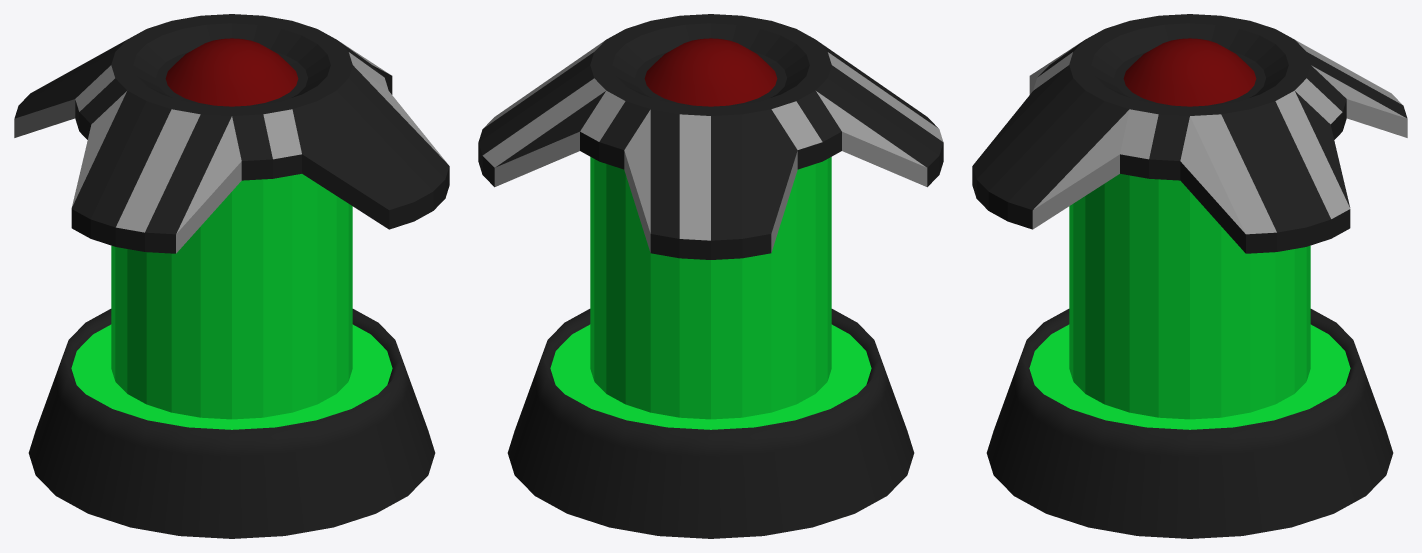
The model's file is TeemoShroom2Export.FBX.
3 views of the same model, side by side, from view 1: azimuth 30°, elevation 25°; view 2: azimuth 150°, elevation 25°; view 3: azimuth 270°, elevation 25° (orthographic).
Parts seen in each view (by area): view 1: Shroom2; view 2: Shroom2; view 3: Shroom2.
Part boxes in pixels (x1,y1,x2,y2): Shroom2: [14, 14, 449, 538]; Shroom2: [478, 14, 943, 538]; Shroom2: [972, 14, 1407, 538].
Size of the model in its own units: 6.23 by 6.44 by 6.23.
